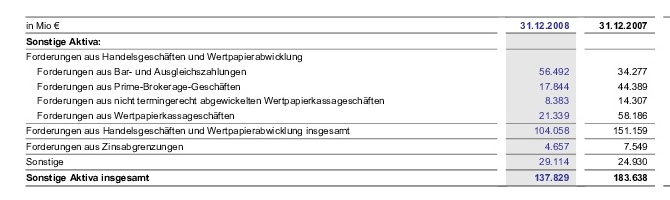table: (0, 0, 670, 200)
